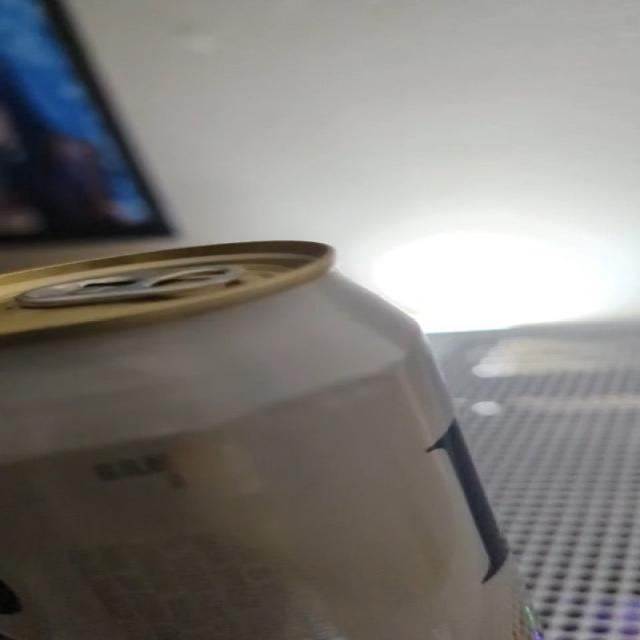metal: (0, 241, 538, 639)
